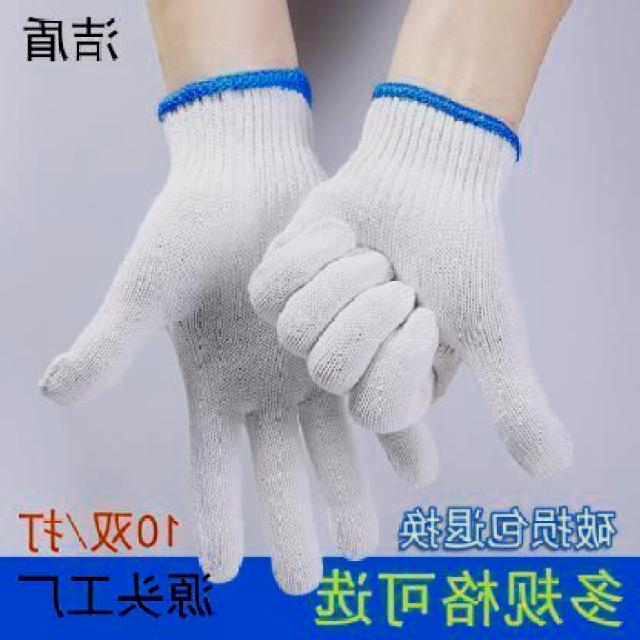hand_glove: (39, 168, 442, 594), (250, 172, 576, 492)
